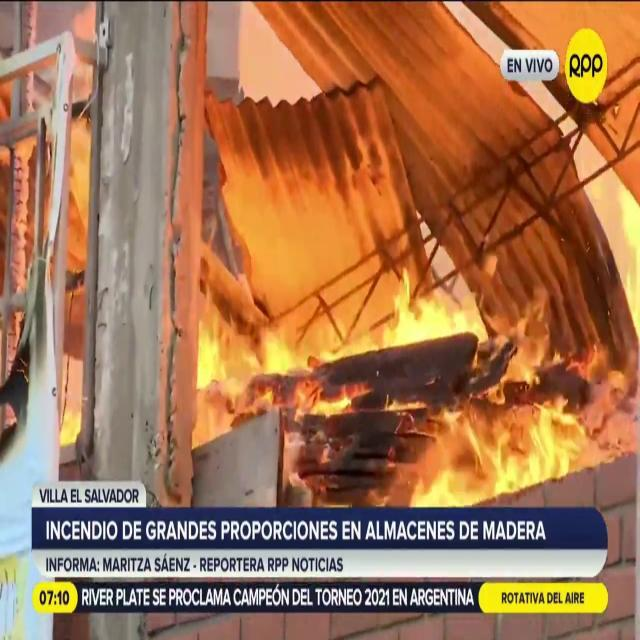Fire: (166, 257, 636, 498)
